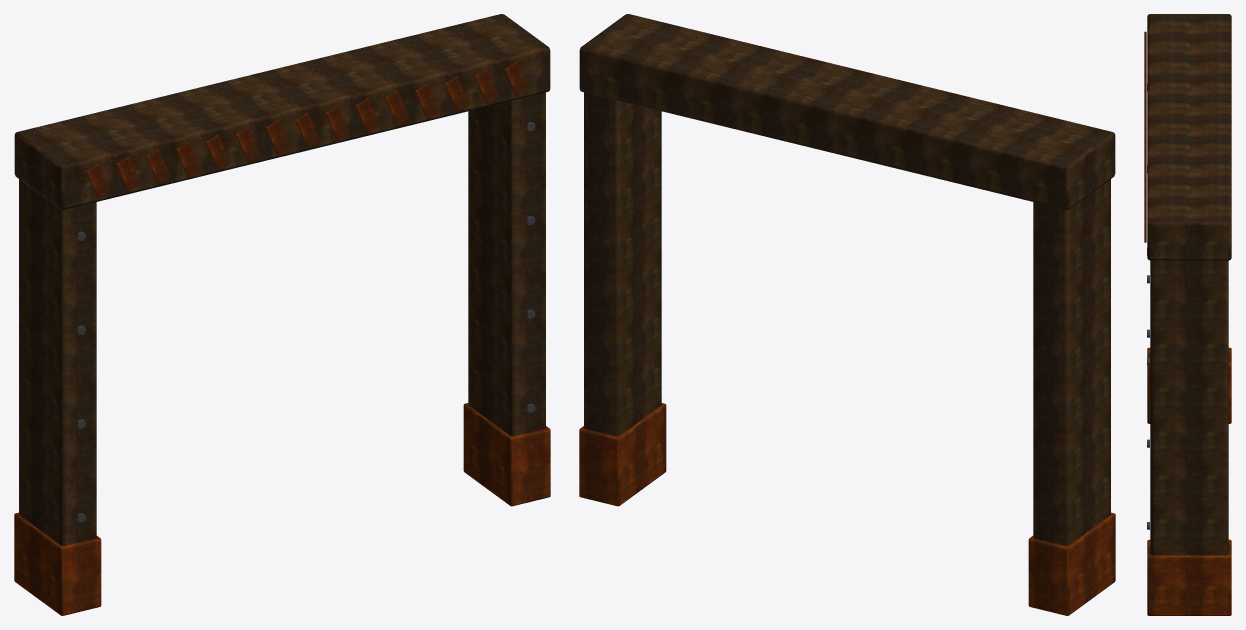
The model's file is containment_arch.glb.
The picture shows the model from 3 angles, left to right: view 1: azimuth 30°, elevation 25°; view 2: azimuth 150°, elevation 25°; view 3: azimuth 270°, elevation 25°; orthographic projection. The views are drawn at different scales.
Parts seen in each view (by area): view 1: ContainmentBulkhead; view 2: ContainmentBulkhead; view 3: ContainmentBulkhead.
Part boxes in pixels (left/top/right/bottom): ContainmentBulkhead: left=14, top=14, right=550, bottom=615; ContainmentBulkhead: left=579, top=14, right=1115, bottom=615; ContainmentBulkhead: left=1144, top=14, right=1231, bottom=615.
Size of the model in its own units: 4.1 by 3.6 by 0.725.
Materials: 3 (3 with a texture image).
